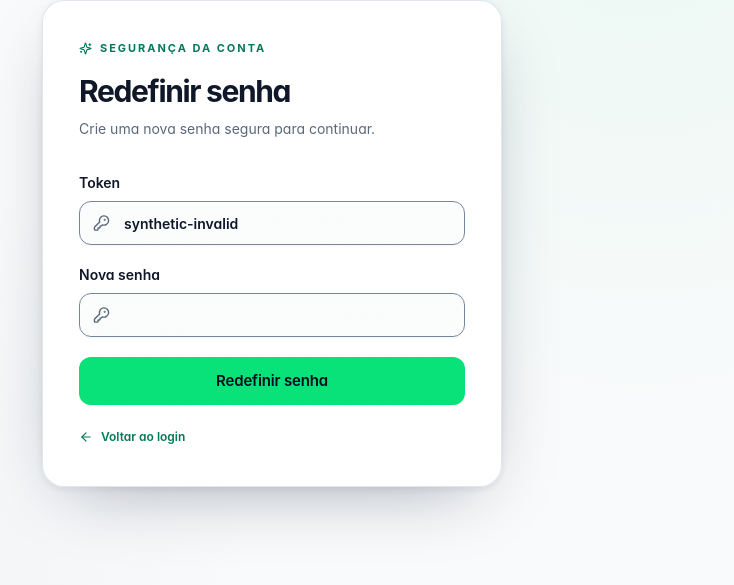
Test: shows an invalid-token response and prevents duplicate pending submissions
In the password field labelled "Nova senha": (272, 315) [79, 293, 465, 337], type "Synthetic@123"
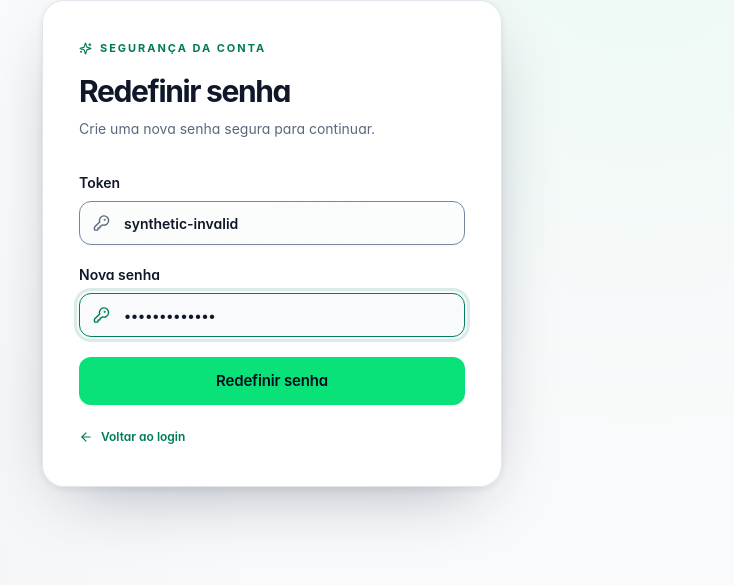
Click the button "Redefinir senha": (272, 381) [79, 357, 465, 405]
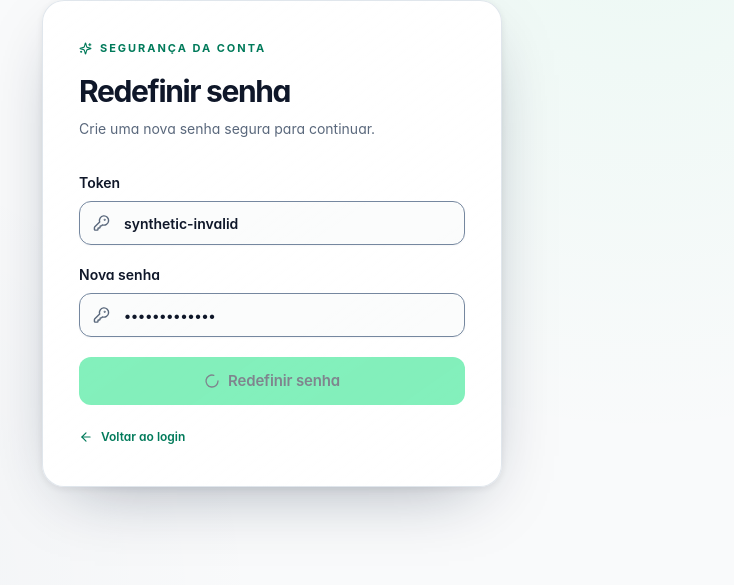
expect the button "Redefinir senha" is disabled: met
Click the button "Redefinir senha": (272, 381) [79, 357, 465, 405]
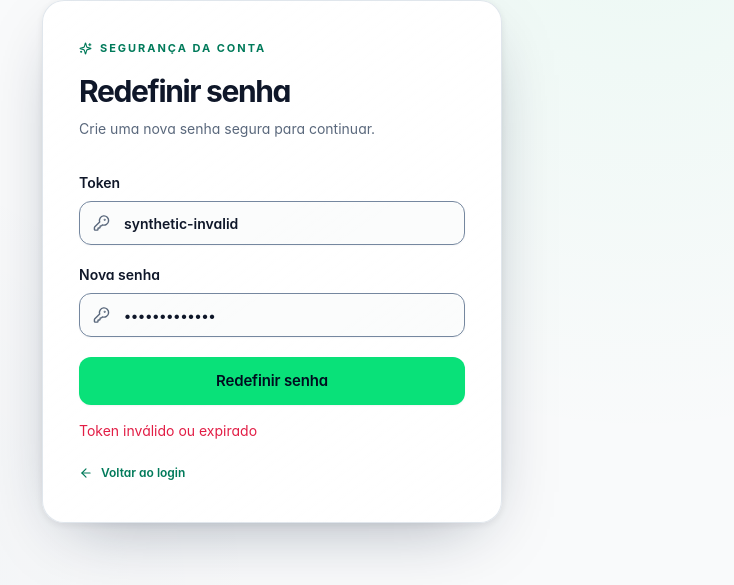
expect the message reads "Token inválido ou expirado": met, box [79, 422, 257, 439]
expect the button "Redefinir senha" is enabled: met, box [79, 357, 465, 405]
